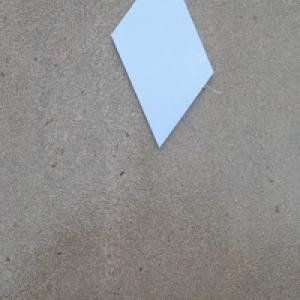PaintChip: (110, 0, 214, 149)
